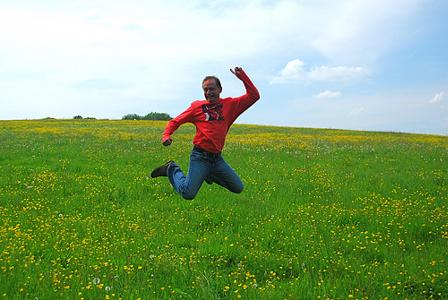person: (147, 67, 258, 202)
